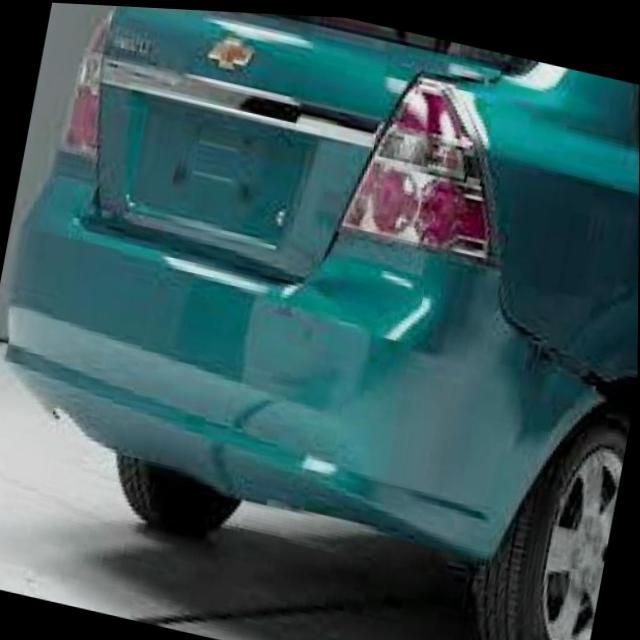Car-Damage: (429, 240, 628, 405)
